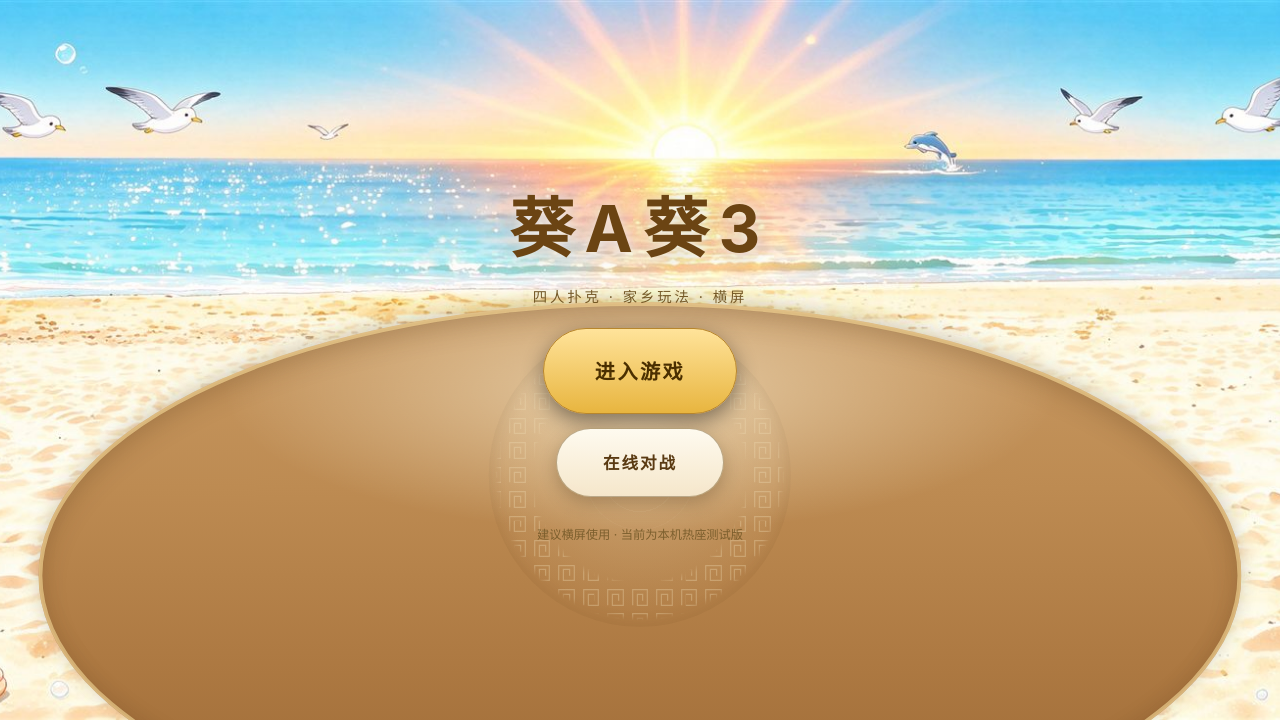
Test: M2 横屏界面（jsdom） › 进入游戏后：牌桌、四家座位、自己信息、调试按钮都在
Step 1. Click the button "进入游戏" → (640, 371), box [543, 328, 737, 414]
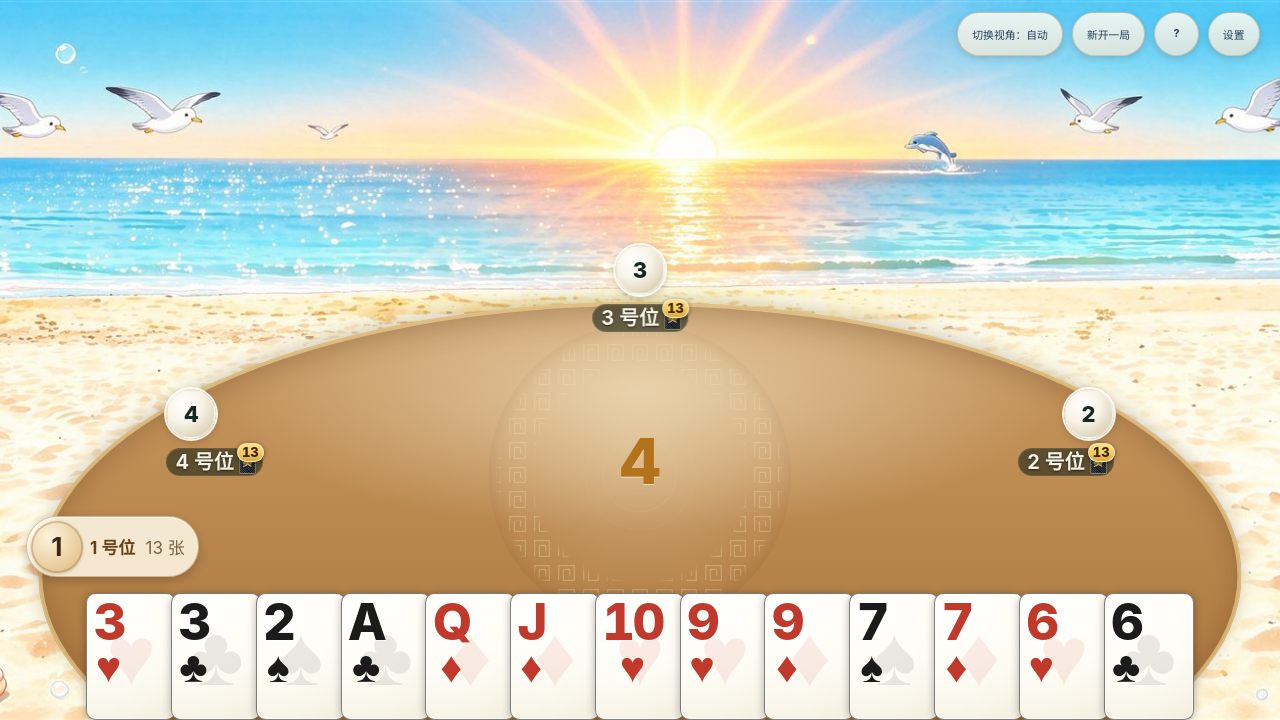
Expected: the element with class "felt" is shown
Expected: the number of elements with class "slot" is 3, [166, 389, 263, 476]; [592, 245, 688, 332]; [1018, 389, 1114, 476]
Expected: the element with class "self-info" is shown, [26, 516, 198, 577]
